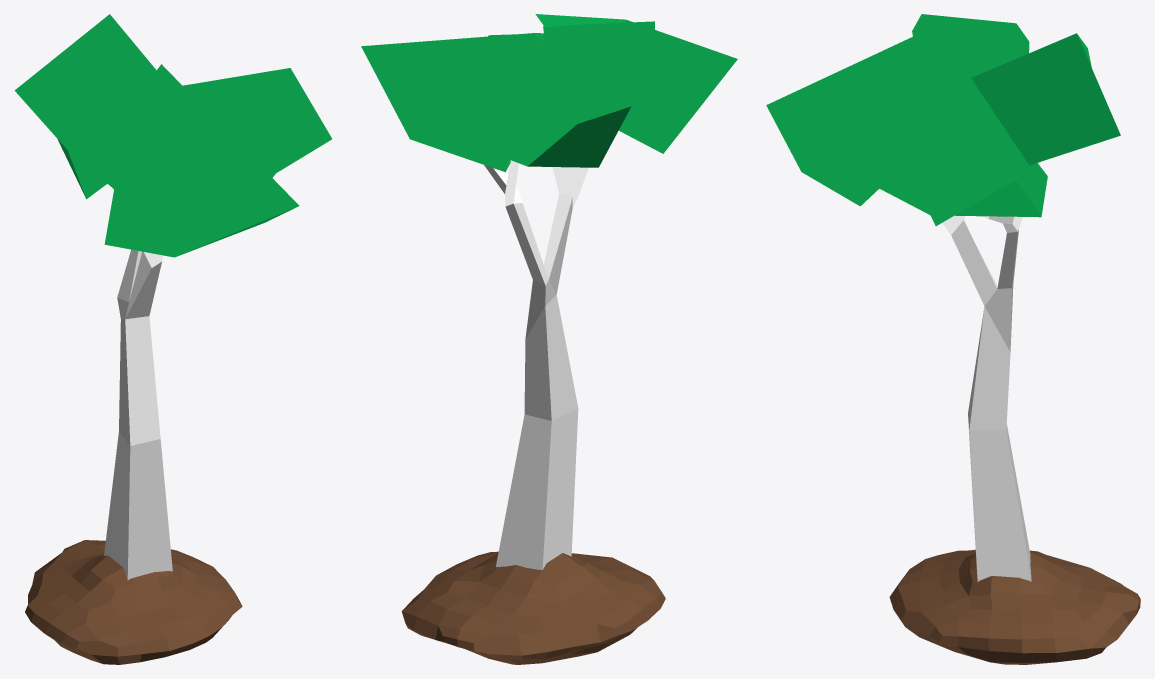
The model's file is tree.glb.
The picture shows the model from 3 angles, left to right: view 1: azimuth 30°, elevation 25°; view 2: azimuth 150°, elevation 25°; view 3: azimuth 270°, elevation 25°; orthographic projection. The views are drawn at different scales.
Visible parts, largest first — view 1: Cube, Sphere; view 2: Cube, Sphere; view 3: Cube, Sphere.
Part boxes in pixels (x1,y1,x2,y2): Cube: [14, 14, 331, 580]; Sphere: [25, 540, 242, 664]; Cube: [361, 14, 737, 570]; Sphere: [401, 551, 665, 664]; Cube: [766, 14, 1120, 581]; Sphere: [889, 549, 1140, 664].
Size of what is drawn, in the model's own units: 4.56 by 9.94 by 5.48.
